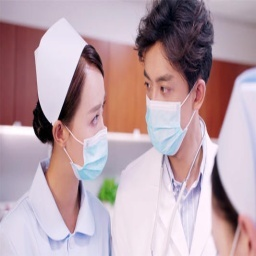correctlyWear: (143, 59, 207, 156), (51, 88, 109, 181)
